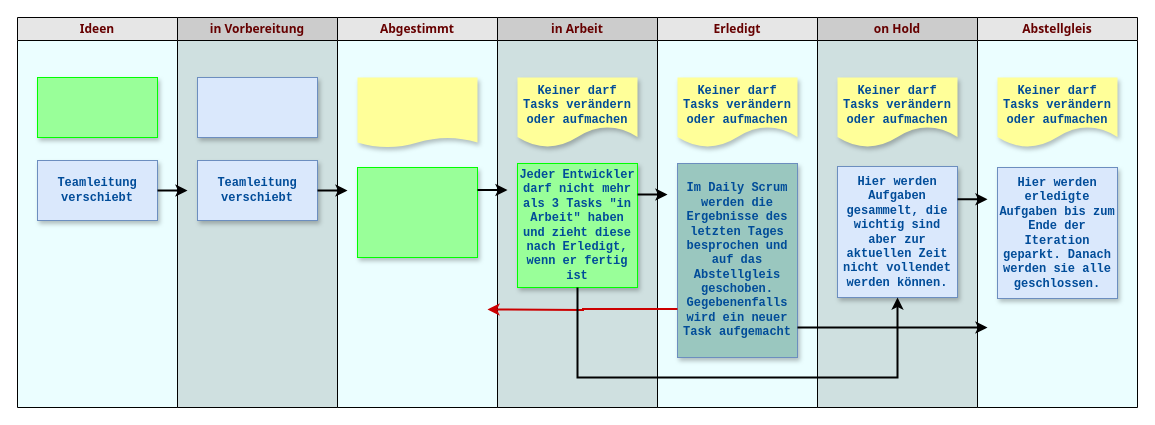
Some shapes in this 1155 by 425 pixel diagram are drawn without their labels. The shapes that lost their labels are listed below. From the top down, each one's centre as x and y in pixels, then its label:
[98,108]: Jeder darf Tasks aufmachen
[258,108]: Teamleitung spezifiziert
[418,113]: Tasks dürfen nur in Ausnahme- fällen geöffnet werden
[418,213]: Jeder Entwickler darf maximal 3 Tasks nach "in Arbeit" ziehen
